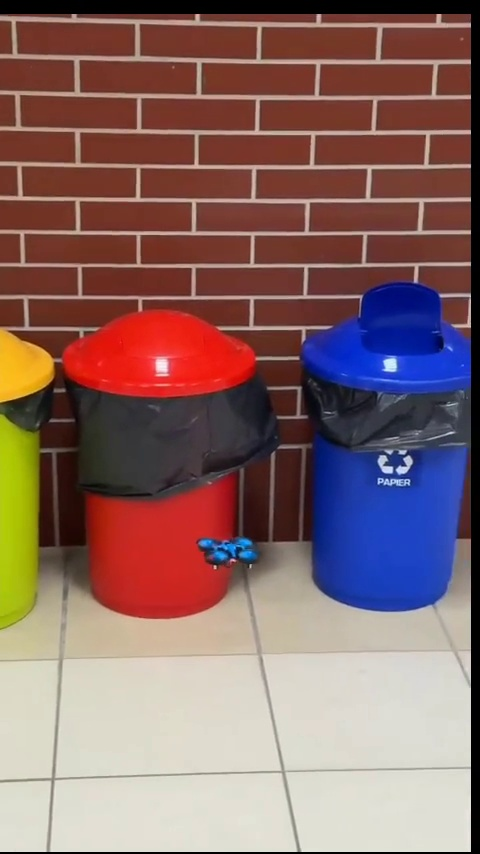drone: (198, 537, 257, 573)
